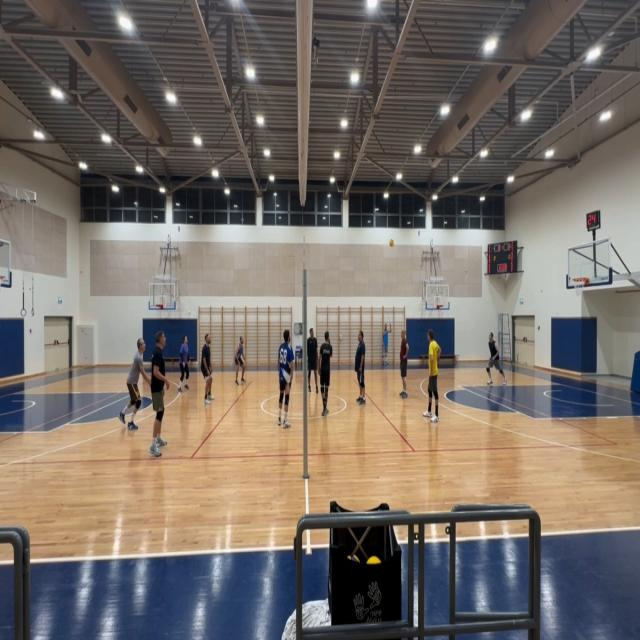volleyball: (390, 239, 394, 247)
